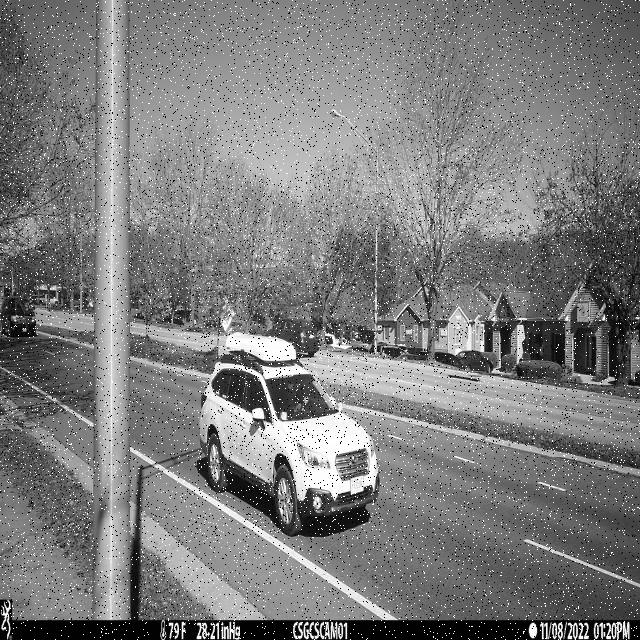SUV: (200, 332, 380, 538)
